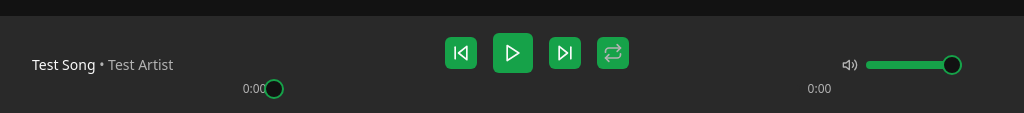
Test case: AudioPlayer › handles loop all mode when song ends
What coordinates should you click on to do the following:
click the button named "Loop off"
I would click on:
 (613, 53)
Its box is [597,37,629,69].
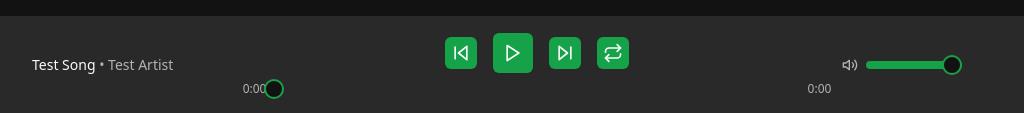
Check: the button named "Loop all" is shown, box [597,37,629,69]
